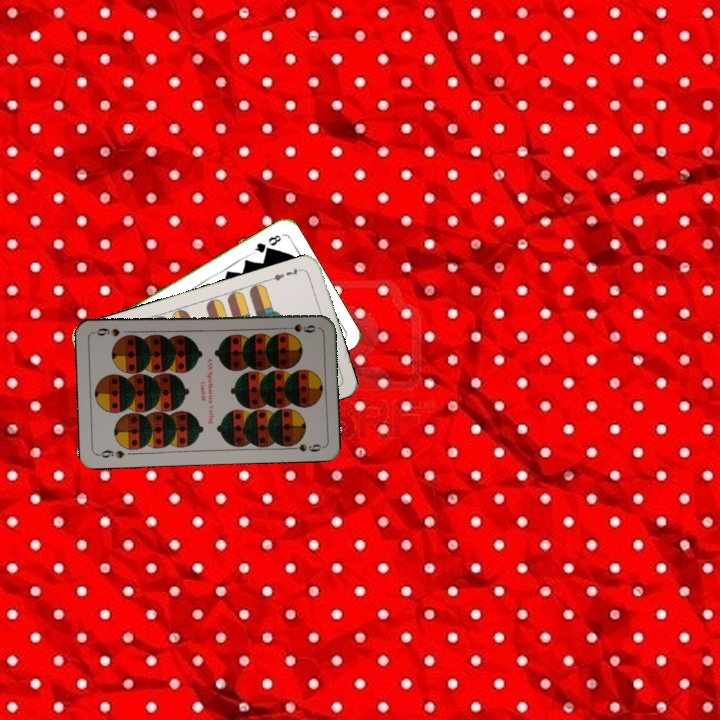E7: (266, 264, 305, 283)
G8: (248, 231, 284, 256)
S9: (279, 320, 317, 335), (94, 446, 127, 461)
